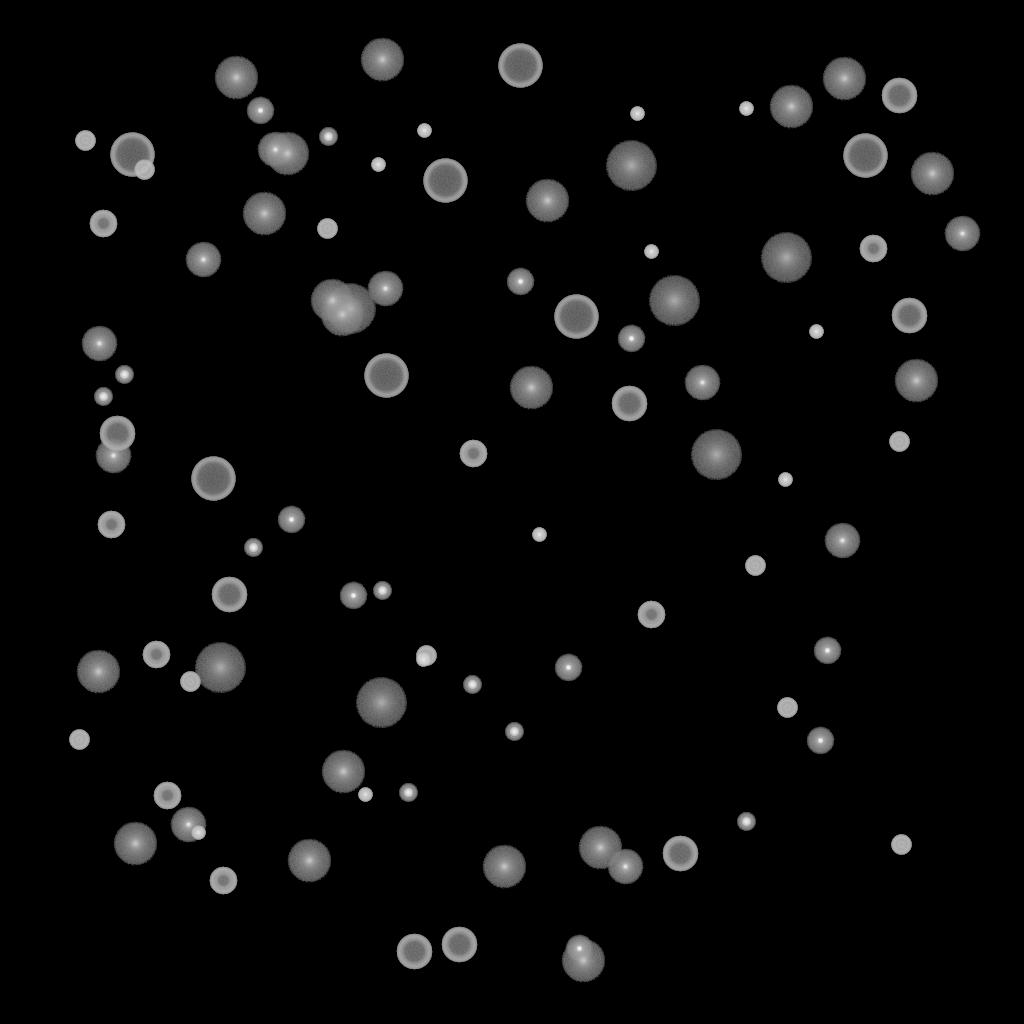depth:-10: (617, 325, 645, 353), (554, 654, 582, 682), (246, 97, 274, 125), (277, 506, 305, 534), (506, 268, 534, 296), (339, 582, 367, 610), (806, 727, 834, 755), (813, 637, 841, 665), (565, 935, 593, 963)
depth:-20: (505, 723, 523, 741), (737, 813, 755, 831), (399, 784, 417, 802), (463, 676, 481, 694), (115, 366, 133, 384), (319, 128, 337, 146), (94, 388, 112, 406), (244, 539, 262, 557), (373, 582, 391, 600)
depth:-30: (809, 325, 823, 339), (739, 102, 753, 116), (532, 528, 546, 542), (358, 788, 372, 802), (416, 653, 430, 667), (644, 245, 658, 259), (191, 826, 205, 840), (778, 473, 792, 487), (417, 124, 431, 138), (630, 107, 644, 121), (371, 158, 385, 172)
depth:-40: (317, 219, 337, 239), (180, 672, 200, 692), (69, 730, 89, 750), (891, 835, 911, 855), (745, 556, 765, 576), (889, 432, 909, 452), (134, 160, 154, 180), (416, 646, 436, 666), (75, 131, 95, 151), (777, 698, 797, 718)
depth:-50: (89, 210, 117, 238), (97, 511, 125, 539), (637, 601, 665, 629), (153, 782, 181, 810), (859, 235, 887, 263), (142, 641, 170, 669), (459, 440, 487, 468), (209, 867, 237, 895)
depth:-60: (441, 927, 477, 963), (662, 836, 698, 872), (396, 934, 432, 970), (211, 577, 247, 613), (99, 416, 135, 452), (891, 298, 927, 334), (881, 78, 917, 114), (611, 386, 647, 422)
depth:-70: (843, 134, 887, 178), (110, 133, 154, 177), (423, 159, 467, 203), (364, 354, 408, 398), (554, 295, 598, 339), (191, 457, 235, 501), (498, 44, 542, 88)
depth:0: (185, 242, 221, 278), (684, 365, 720, 401), (95, 438, 131, 474), (944, 216, 980, 252), (257, 132, 293, 168), (81, 326, 117, 362), (367, 271, 403, 307), (170, 807, 206, 843), (824, 523, 860, 559), (607, 849, 643, 885)
depth:10: (76, 650, 120, 694), (561, 939, 605, 983), (894, 359, 938, 403), (910, 152, 954, 196), (242, 192, 286, 236), (320, 293, 364, 337), (822, 57, 866, 101), (287, 839, 331, 883), (769, 85, 813, 129), (214, 56, 258, 100), (360, 38, 404, 82), (113, 822, 157, 866), (525, 179, 569, 223), (509, 366, 553, 410), (310, 279, 354, 323), (482, 845, 526, 889), (321, 750, 365, 794), (265, 132, 309, 176), (578, 826, 622, 870)
depth:20: (324, 284, 376, 334), (690, 430, 742, 480), (355, 678, 407, 728), (648, 276, 700, 326), (760, 233, 812, 283), (194, 643, 246, 693), (605, 141, 657, 191)
